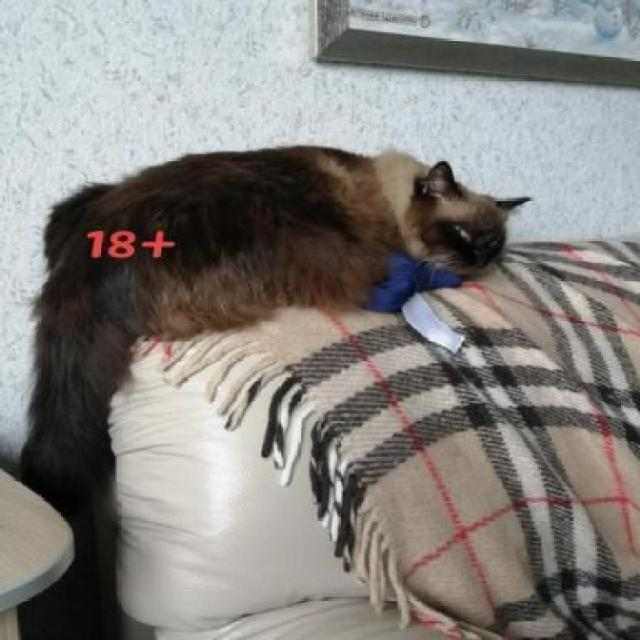cat: (48, 136, 562, 332)
